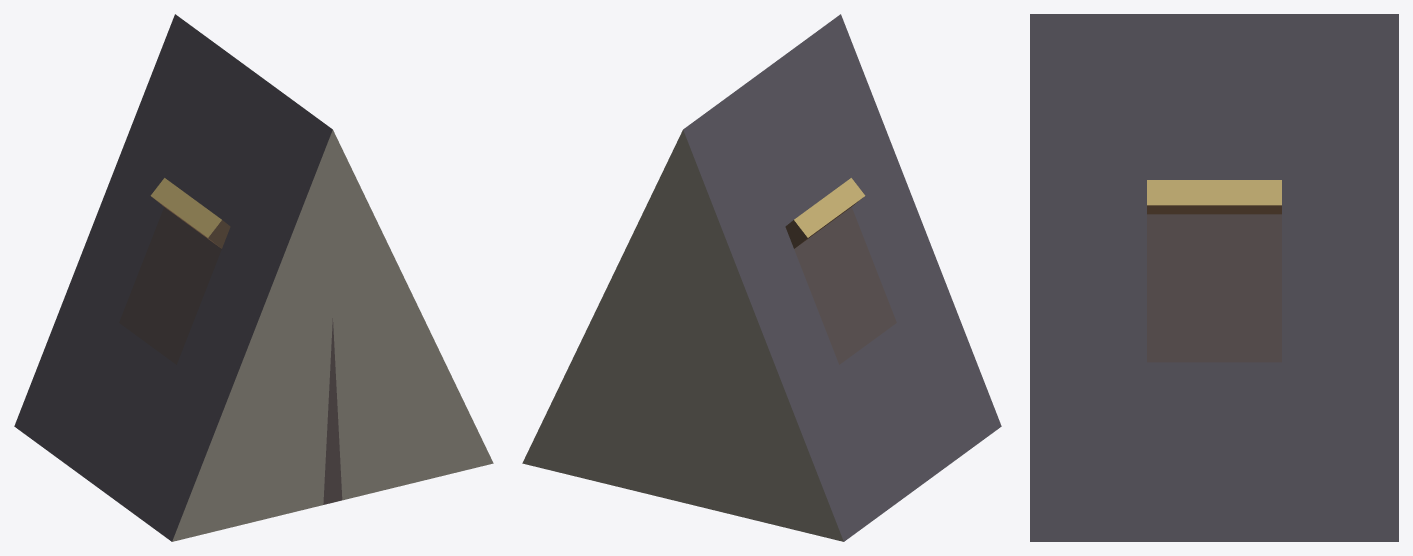
The model's file is TB_D_Prop_Tent_A.FBX.
3 renders of one model, left to right at view 1: azimuth 30°, elevation 25°; view 2: azimuth 150°, elevation 25°; view 3: azimuth 270°, elevation 25°, orthographic. The views are drawn at different scales.
Visible parts, largest first — view 1: TB_D_Prop_Tent_A; view 2: TB_D_Prop_Tent_A; view 3: TB_D_Prop_Tent_A.
Boxes of the visible parts, left/top/right/bottom form: TB_D_Prop_Tent_A: left=14, top=14, right=493, bottom=541; TB_D_Prop_Tent_A: left=522, top=14, right=1001, bottom=541; TB_D_Prop_Tent_A: left=1030, top=14, right=1398, bottom=541.
Bounding box in the file's own units: 2.86 × 3.17 × 2.43.
